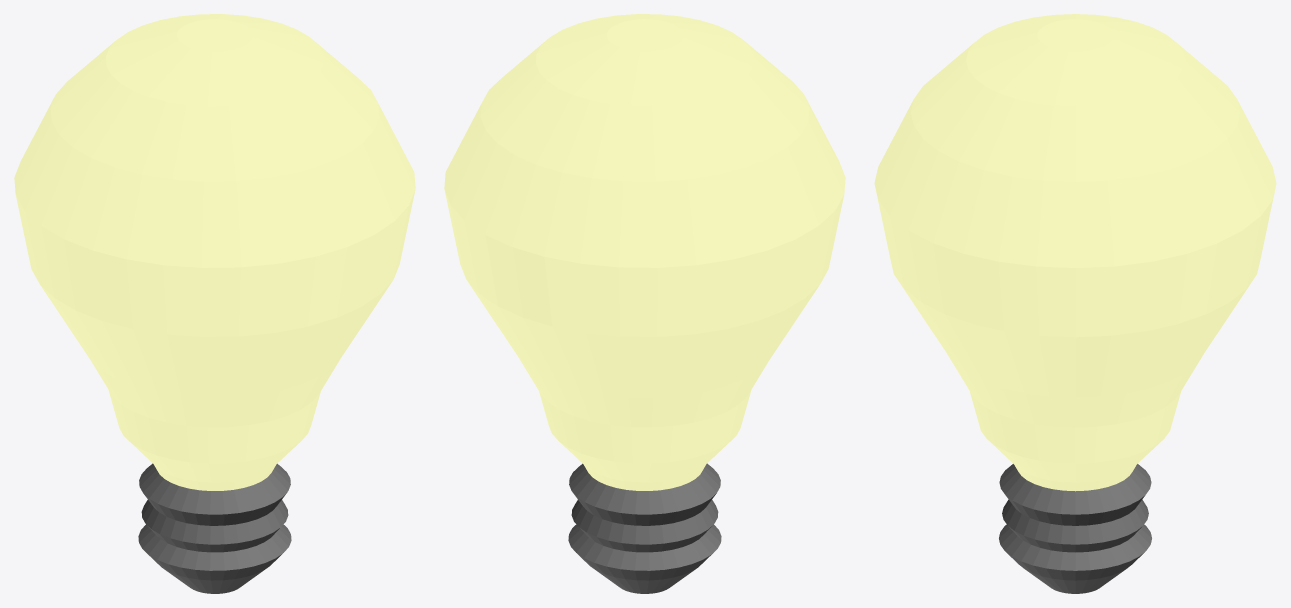
Rendered from lightbulb.glb.
The picture shows the model from 3 angles, left to right: view 1: azimuth 30°, elevation 25°; view 2: azimuth 150°, elevation 25°; view 3: azimuth 270°, elevation 25°; orthographic projection.
Visible parts, largest first — view 1: Circle; view 2: Circle; view 3: Circle.
Part boxes in pixels (<box>): Circle: <box>14,14,415,593</box>; Circle: <box>444,14,845,593</box>; Circle: <box>874,14,1276,593</box>.
Size of the model in its own units: 3.33 by 4.99 by 3.33.
